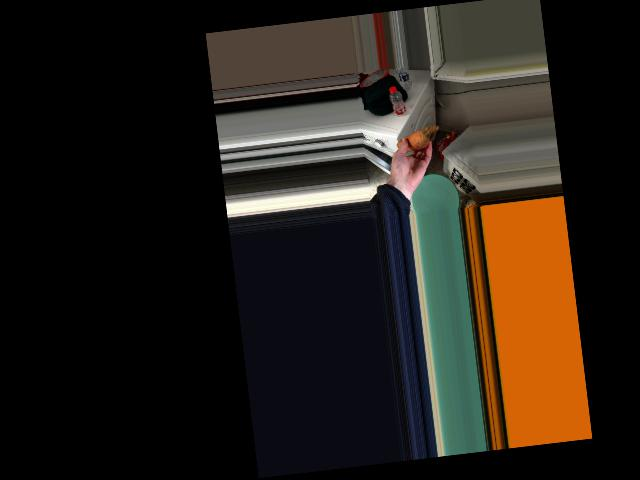sweet_potato: (400, 129, 429, 151)
